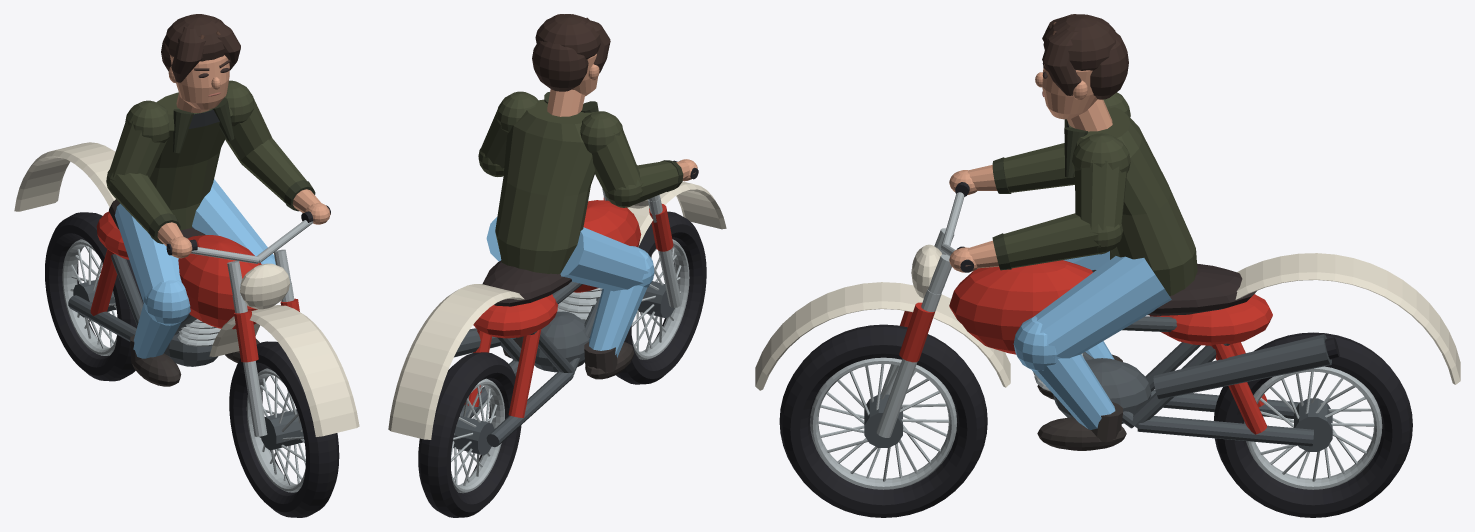
File: john.fbx
3 views of the same model, side by side, from view 1: azimuth 30°, elevation 25°; view 2: azimuth 150°, elevation 25°; view 3: azimuth 270°, elevation 25° (orthographic). The views are drawn at different scales.
Parts seen in each view (by area): view 1: JohnConnorOnMoped, FrontWheel, RearWheel; view 2: JohnConnorOnMoped, RearWheel, FrontWheel; view 3: JohnConnorOnMoped, FrontWheel, RearWheel.
Part boxes in pixels (left/top/right/bottom): JohnConnorOnMoped: left=14, top=14, right=359, bottom=436; FrontWheel: left=229, top=341, right=339, bottom=517; RearWheel: left=45, top=212, right=143, bottom=381; JohnConnorOnMoped: left=388, top=14, right=726, bottom=447; RearWheel: left=418, top=352, right=521, bottom=517; FrontWheel: left=616, top=211, right=706, bottom=384; JohnConnorOnMoped: left=755, top=14, right=1460, bottom=450; FrontWheel: left=779, top=324, right=987, bottom=517; RearWheel: left=1214, top=332, right=1412, bottom=517.
Size of the model in its own units: 0.6 by 1.51 by 1.94.
